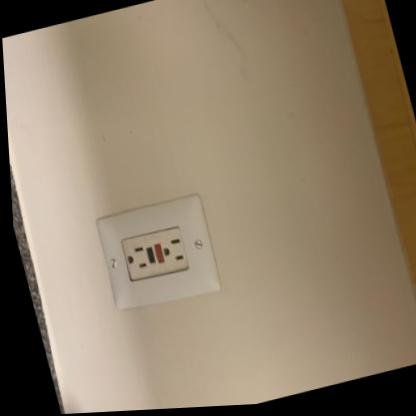OUTLET: (91, 189, 225, 312)
